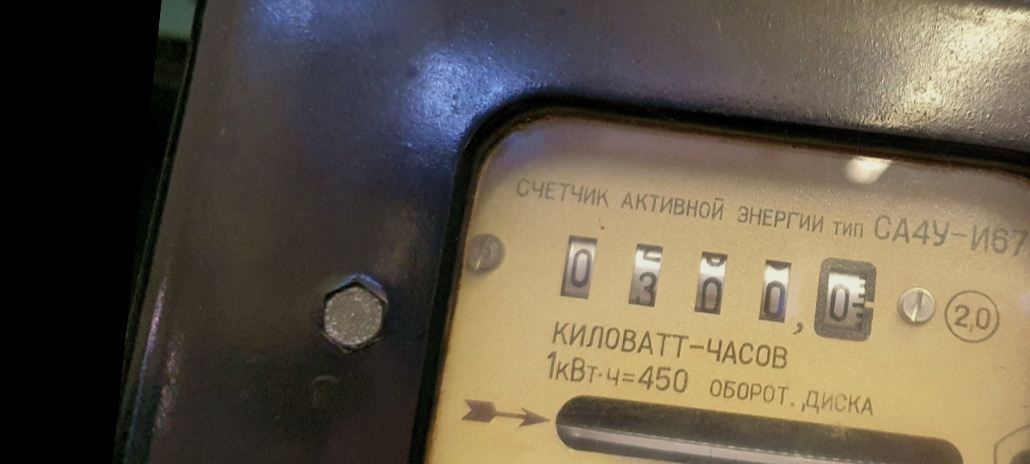0: (757, 277, 787, 324), (821, 281, 851, 326), (564, 244, 592, 292), (694, 273, 721, 317)
3: (630, 268, 657, 309)
screen: (534, 210, 898, 361)
